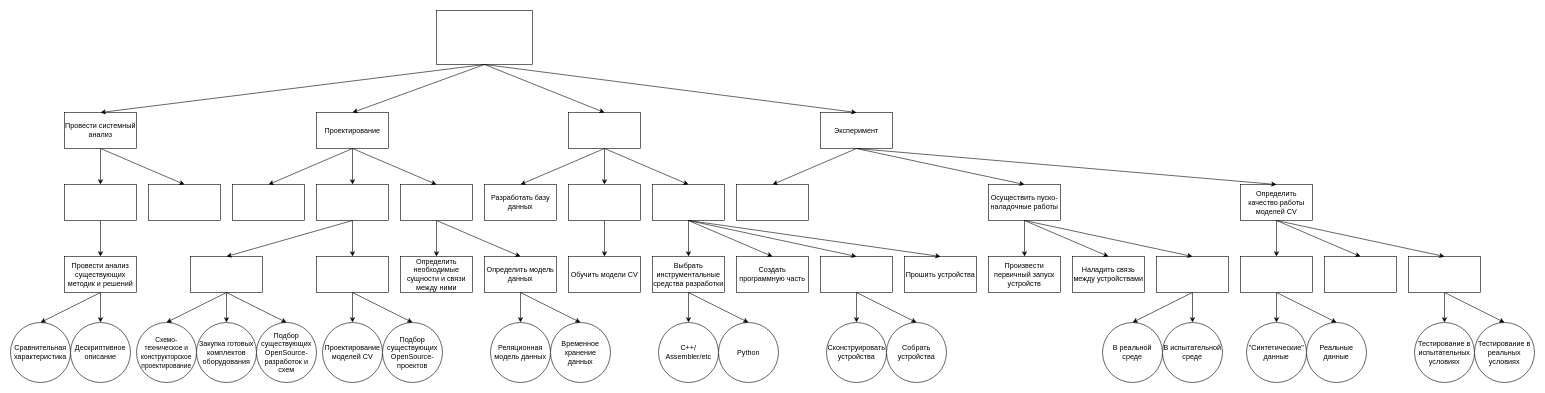
Some shapes in this 1545 by 393 pixel diagram are drawn without their labels. The box of each missing label's shape, as (x1, y1, x2, y2) in pixels:
Исследование и разработка методик управления БПЛА на основе машинного зрения: (436, 10, 532, 64)
Определить задачи/выдвинуть гипотезы: (148, 184, 220, 220)
Осуществить проверку гипотез: (736, 184, 808, 220)
Подготовить тестовую выборку: (1240, 256, 1312, 292)
Провести анализ предметной области: (64, 184, 136, 220)
Провести концептуальное проектирование: (232, 184, 304, 220)
Провести моделирование устройств: (190, 256, 262, 292)
Провести оценку метрик: (1324, 256, 1396, 292)
Провести пробный полёт: (1156, 256, 1228, 292)
Провести тестирование: (1408, 256, 1480, 292)
Развернуть модели CV: (568, 184, 640, 220)
Разработать программно-аппаратный комлекс: (652, 184, 724, 220)
Реализация: (568, 112, 640, 148)
Создать аппаратную часть: (820, 256, 892, 292)
Спроектировать базу данных: (400, 184, 472, 220)
Сформировать требования к моделям CV: (316, 256, 388, 292)
Сформировать требования к системе: (316, 184, 388, 220)
